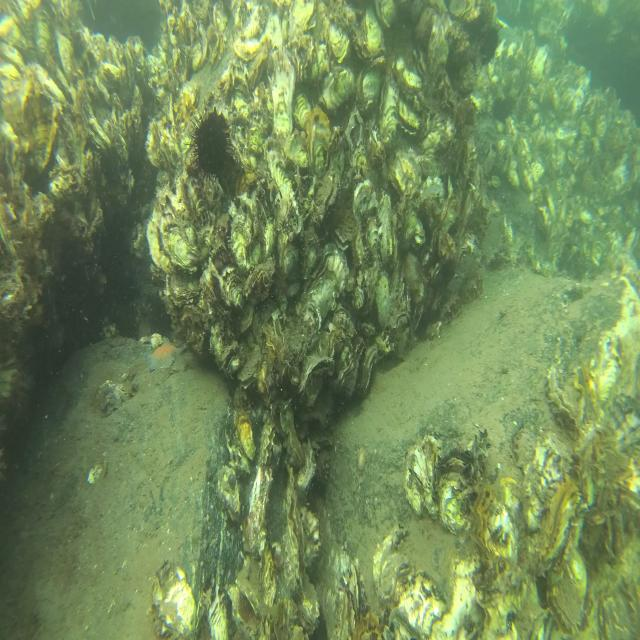echinus: (188, 99, 235, 189), (482, 25, 505, 64), (490, 91, 514, 126)
starfish: (146, 335, 188, 374)
